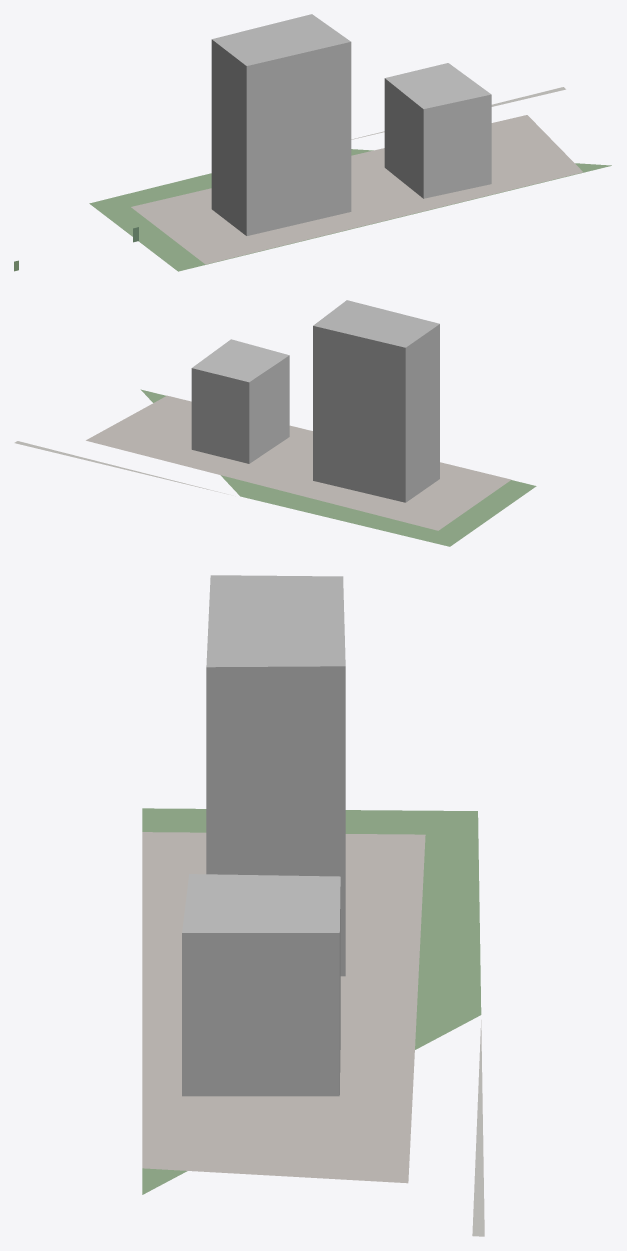
The picture shows the model from 3 angles, top to bottom: view 1: azimuth 30°, elevation 25°; view 2: azimuth 150°, elevation 25°; view 3: azimuth 270°, elevation 25°; orthographic projection. The views are drawn at different scales.
Size of the model in its own units: 303 by 82.21 by 81.65.
